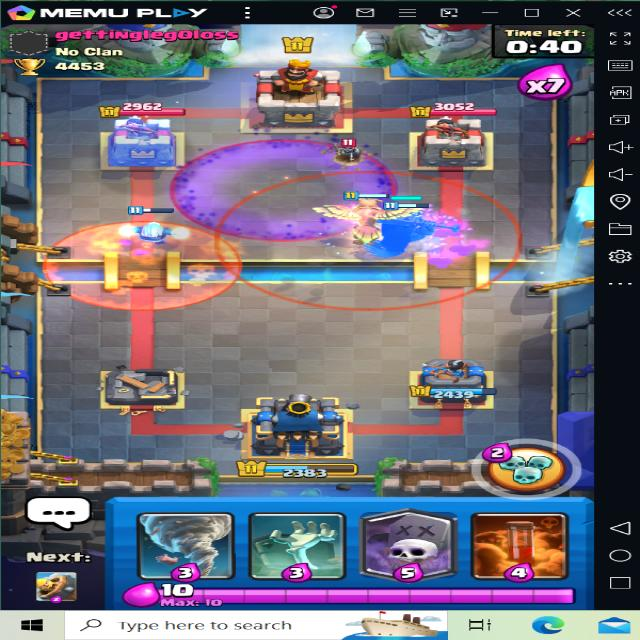Graveyard: (175, 128, 402, 245)
Poison: (49, 211, 239, 311)
Skeleton: (334, 140, 372, 160)
Tornado: (215, 168, 528, 314)
